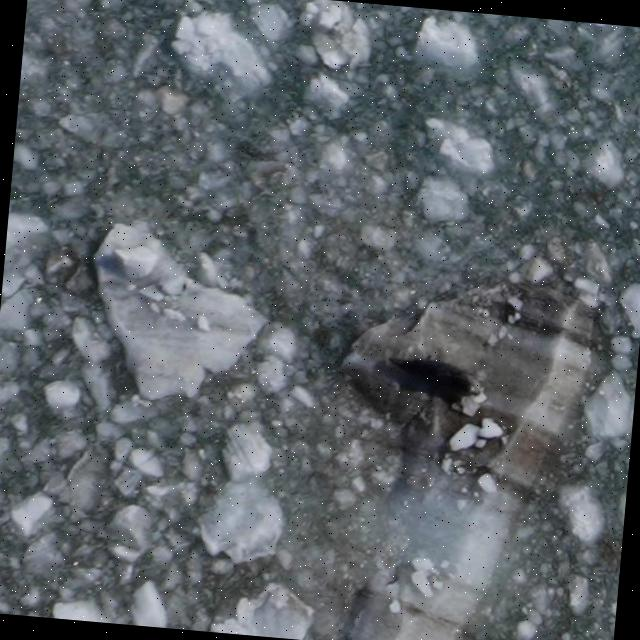seal: (383, 339, 486, 402)
